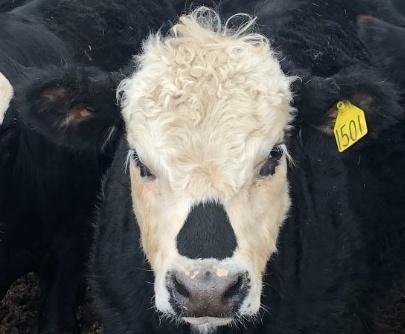muzzles: (144, 259, 278, 329)
